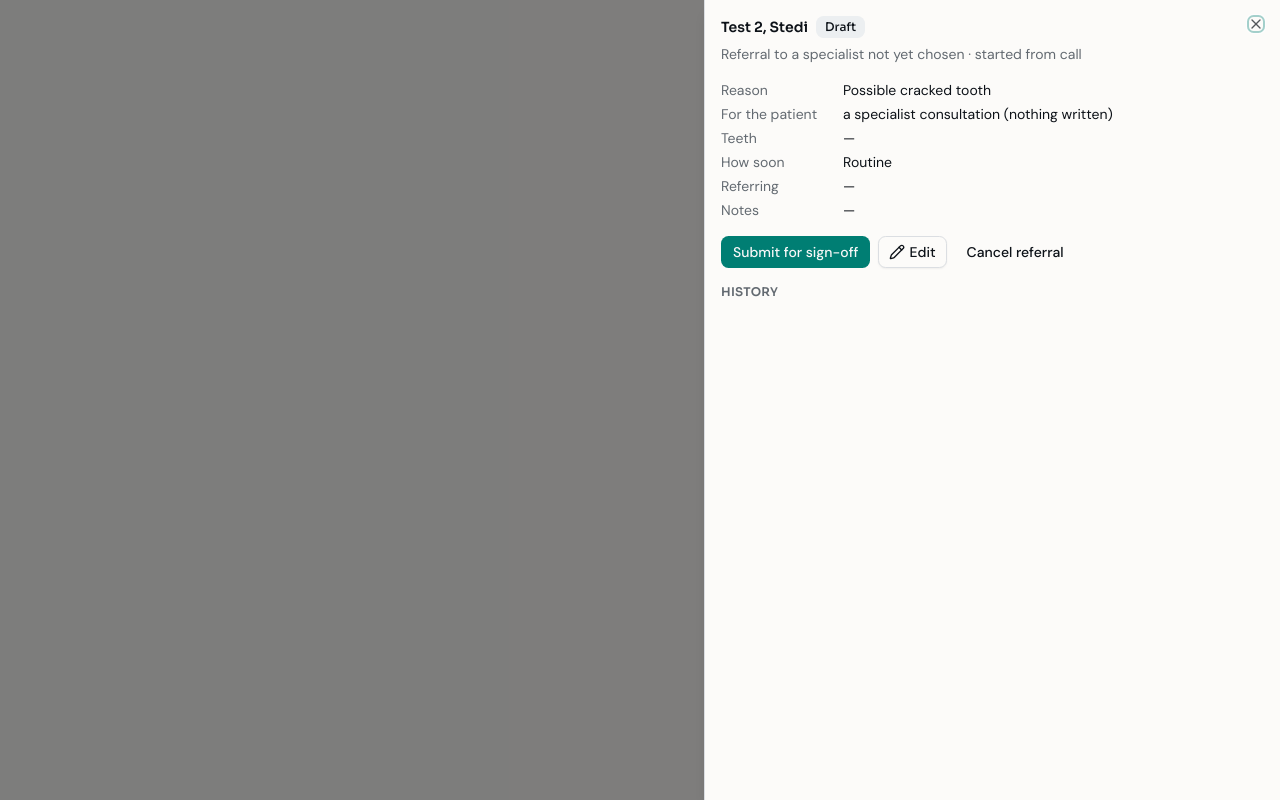
Test: the detail panel's moves › THE BUG: a draft with no specialist yet can be submitted from the hub; the panel shows the server's answer
Expected: the element with test id "tc-hub-actions" is shown, [721,236,1076,268]
Expected: the button "Edit" is shown, [878,236,947,268]
Click the button with test id "tc-hub-submit".
click(796, 252)  # box [721,236,870,268]
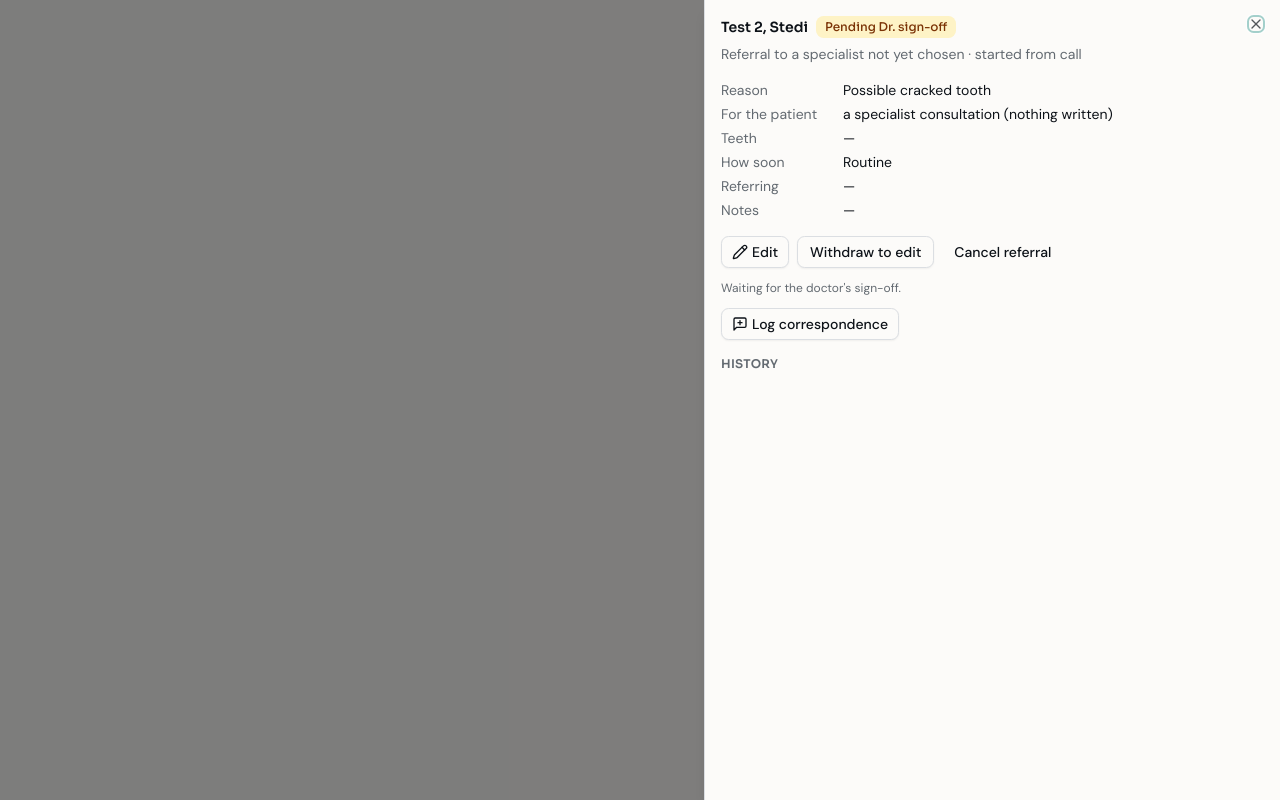
Expected: the text with test id "tc-referral-status" reads "Pending Dr. sign-off", [825,19,947,34]
Expected: the button with test id "tc-hub-submit" is gone
Expected: the button with test id "tc-hub-withdraw" is shown, [797,236,934,268]
